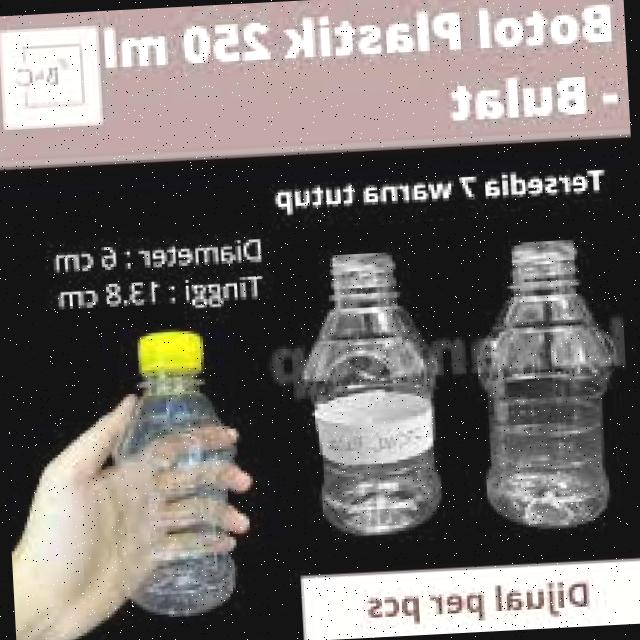bottle: (282, 219, 444, 527), (86, 312, 244, 624), (467, 222, 618, 522)
